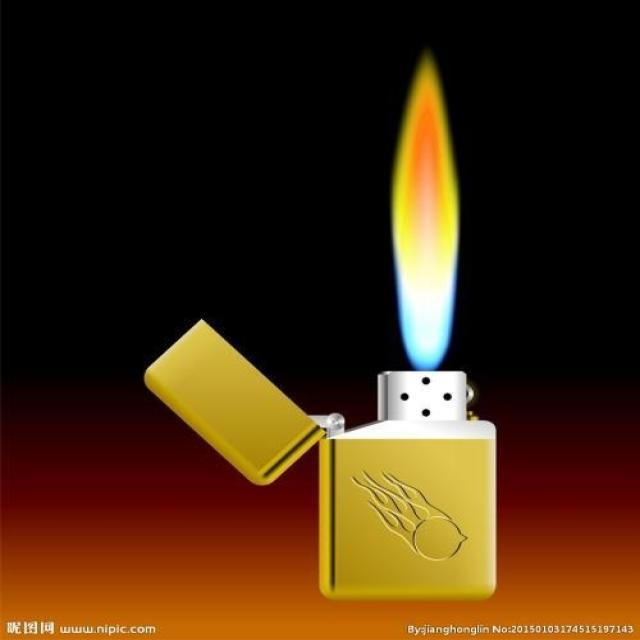Fire: (388, 52, 461, 370)
